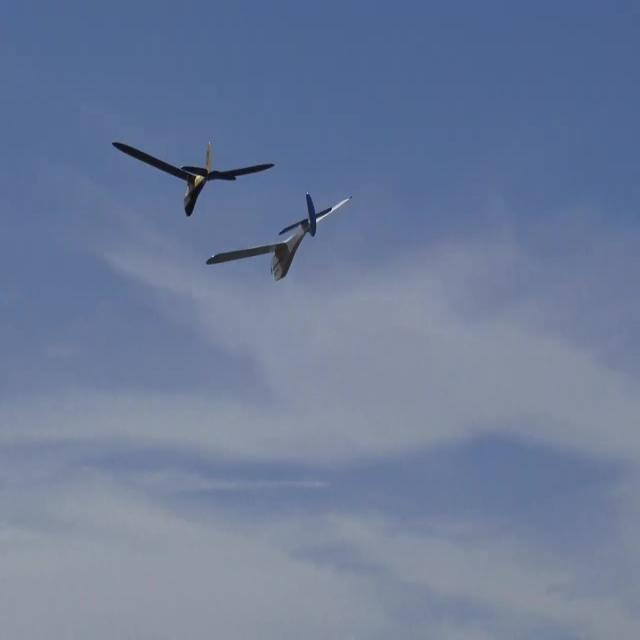iha: (206, 223, 353, 251), (112, 172, 276, 185)
